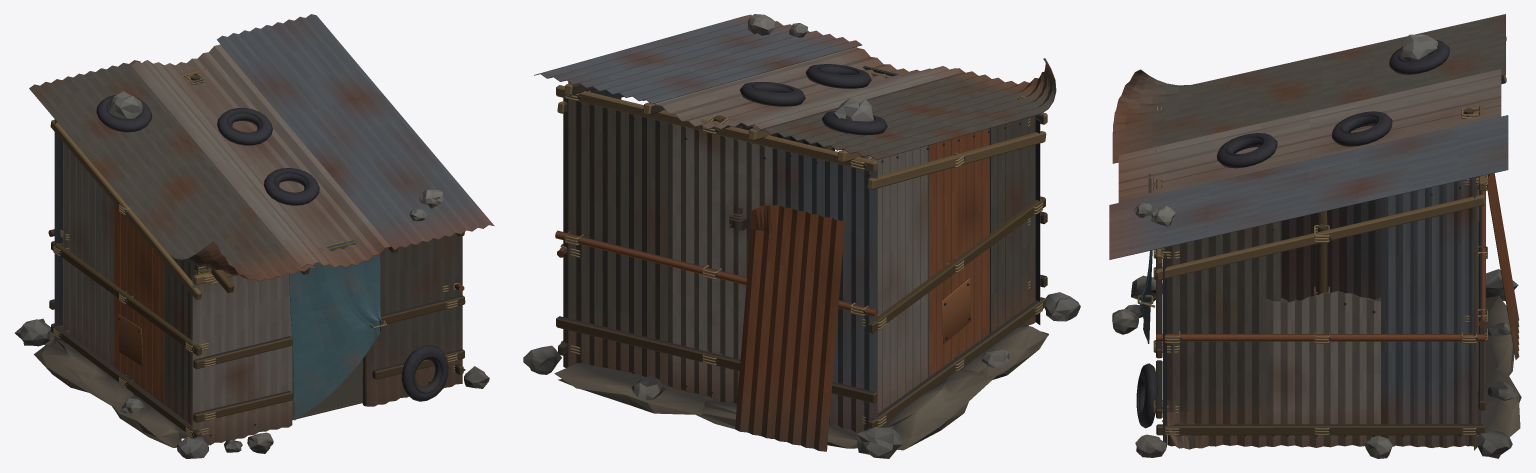
The model's file is scrap-metal-shelter.glb.
3 renders of one model, left to right at view 1: azimuth 30°, elevation 25°; view 2: azimuth 150°, elevation 25°; view 3: azimuth 270°, elevation 25°, orthographic. The views are drawn at different scales.
Visible parts, largest first — view 1: scrap_metal_shelter; view 2: scrap_metal_shelter; view 3: scrap_metal_shelter.
Boxes of the visible parts, box(x1,y1,x2,y2) form: scrap_metal_shelter: box(15, 14, 494, 458); scrap_metal_shelter: box(523, 14, 1080, 458); scrap_metal_shelter: box(1109, 14, 1521, 458).
Bounding box in the file's own units: 3.6 × 2.82 × 3.59.
